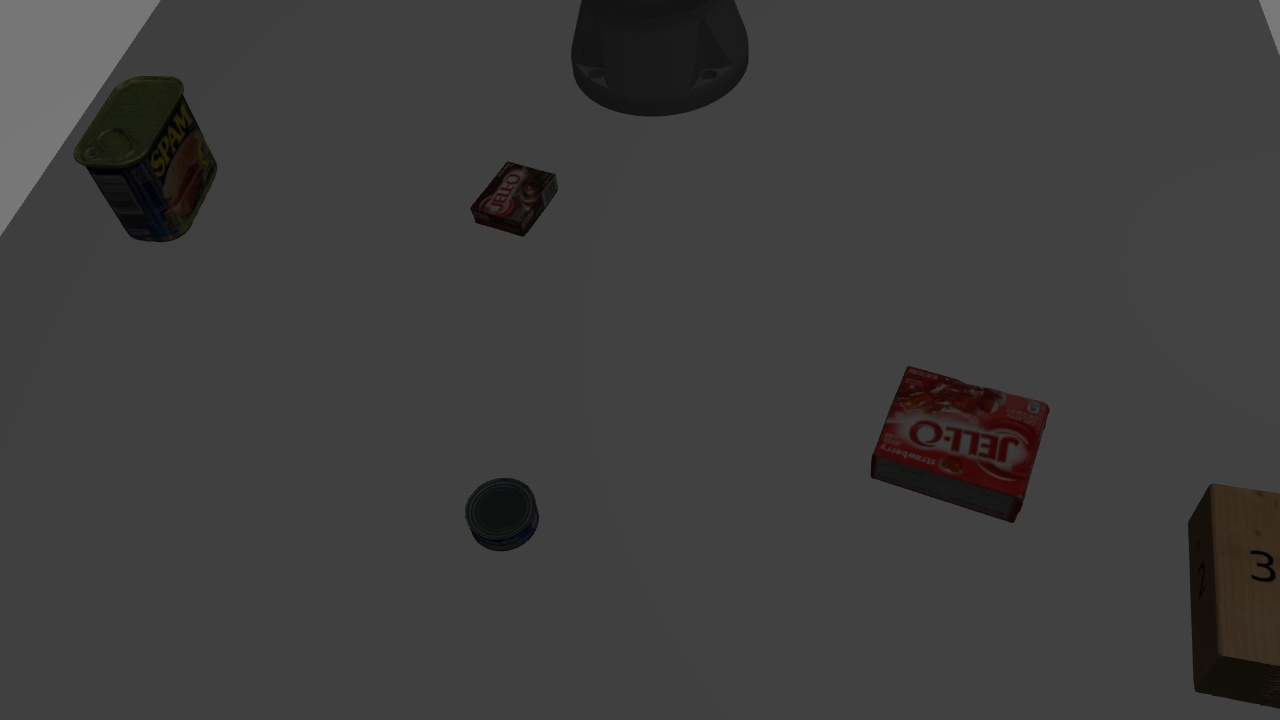gelatin_box: (865, 357, 1051, 526)
potted_meat_can: (72, 73, 228, 244)
pudding_box: (467, 158, 559, 239)
tuna_fish_can: (459, 483, 547, 547)
wood_block: (1182, 461, 1276, 707)
